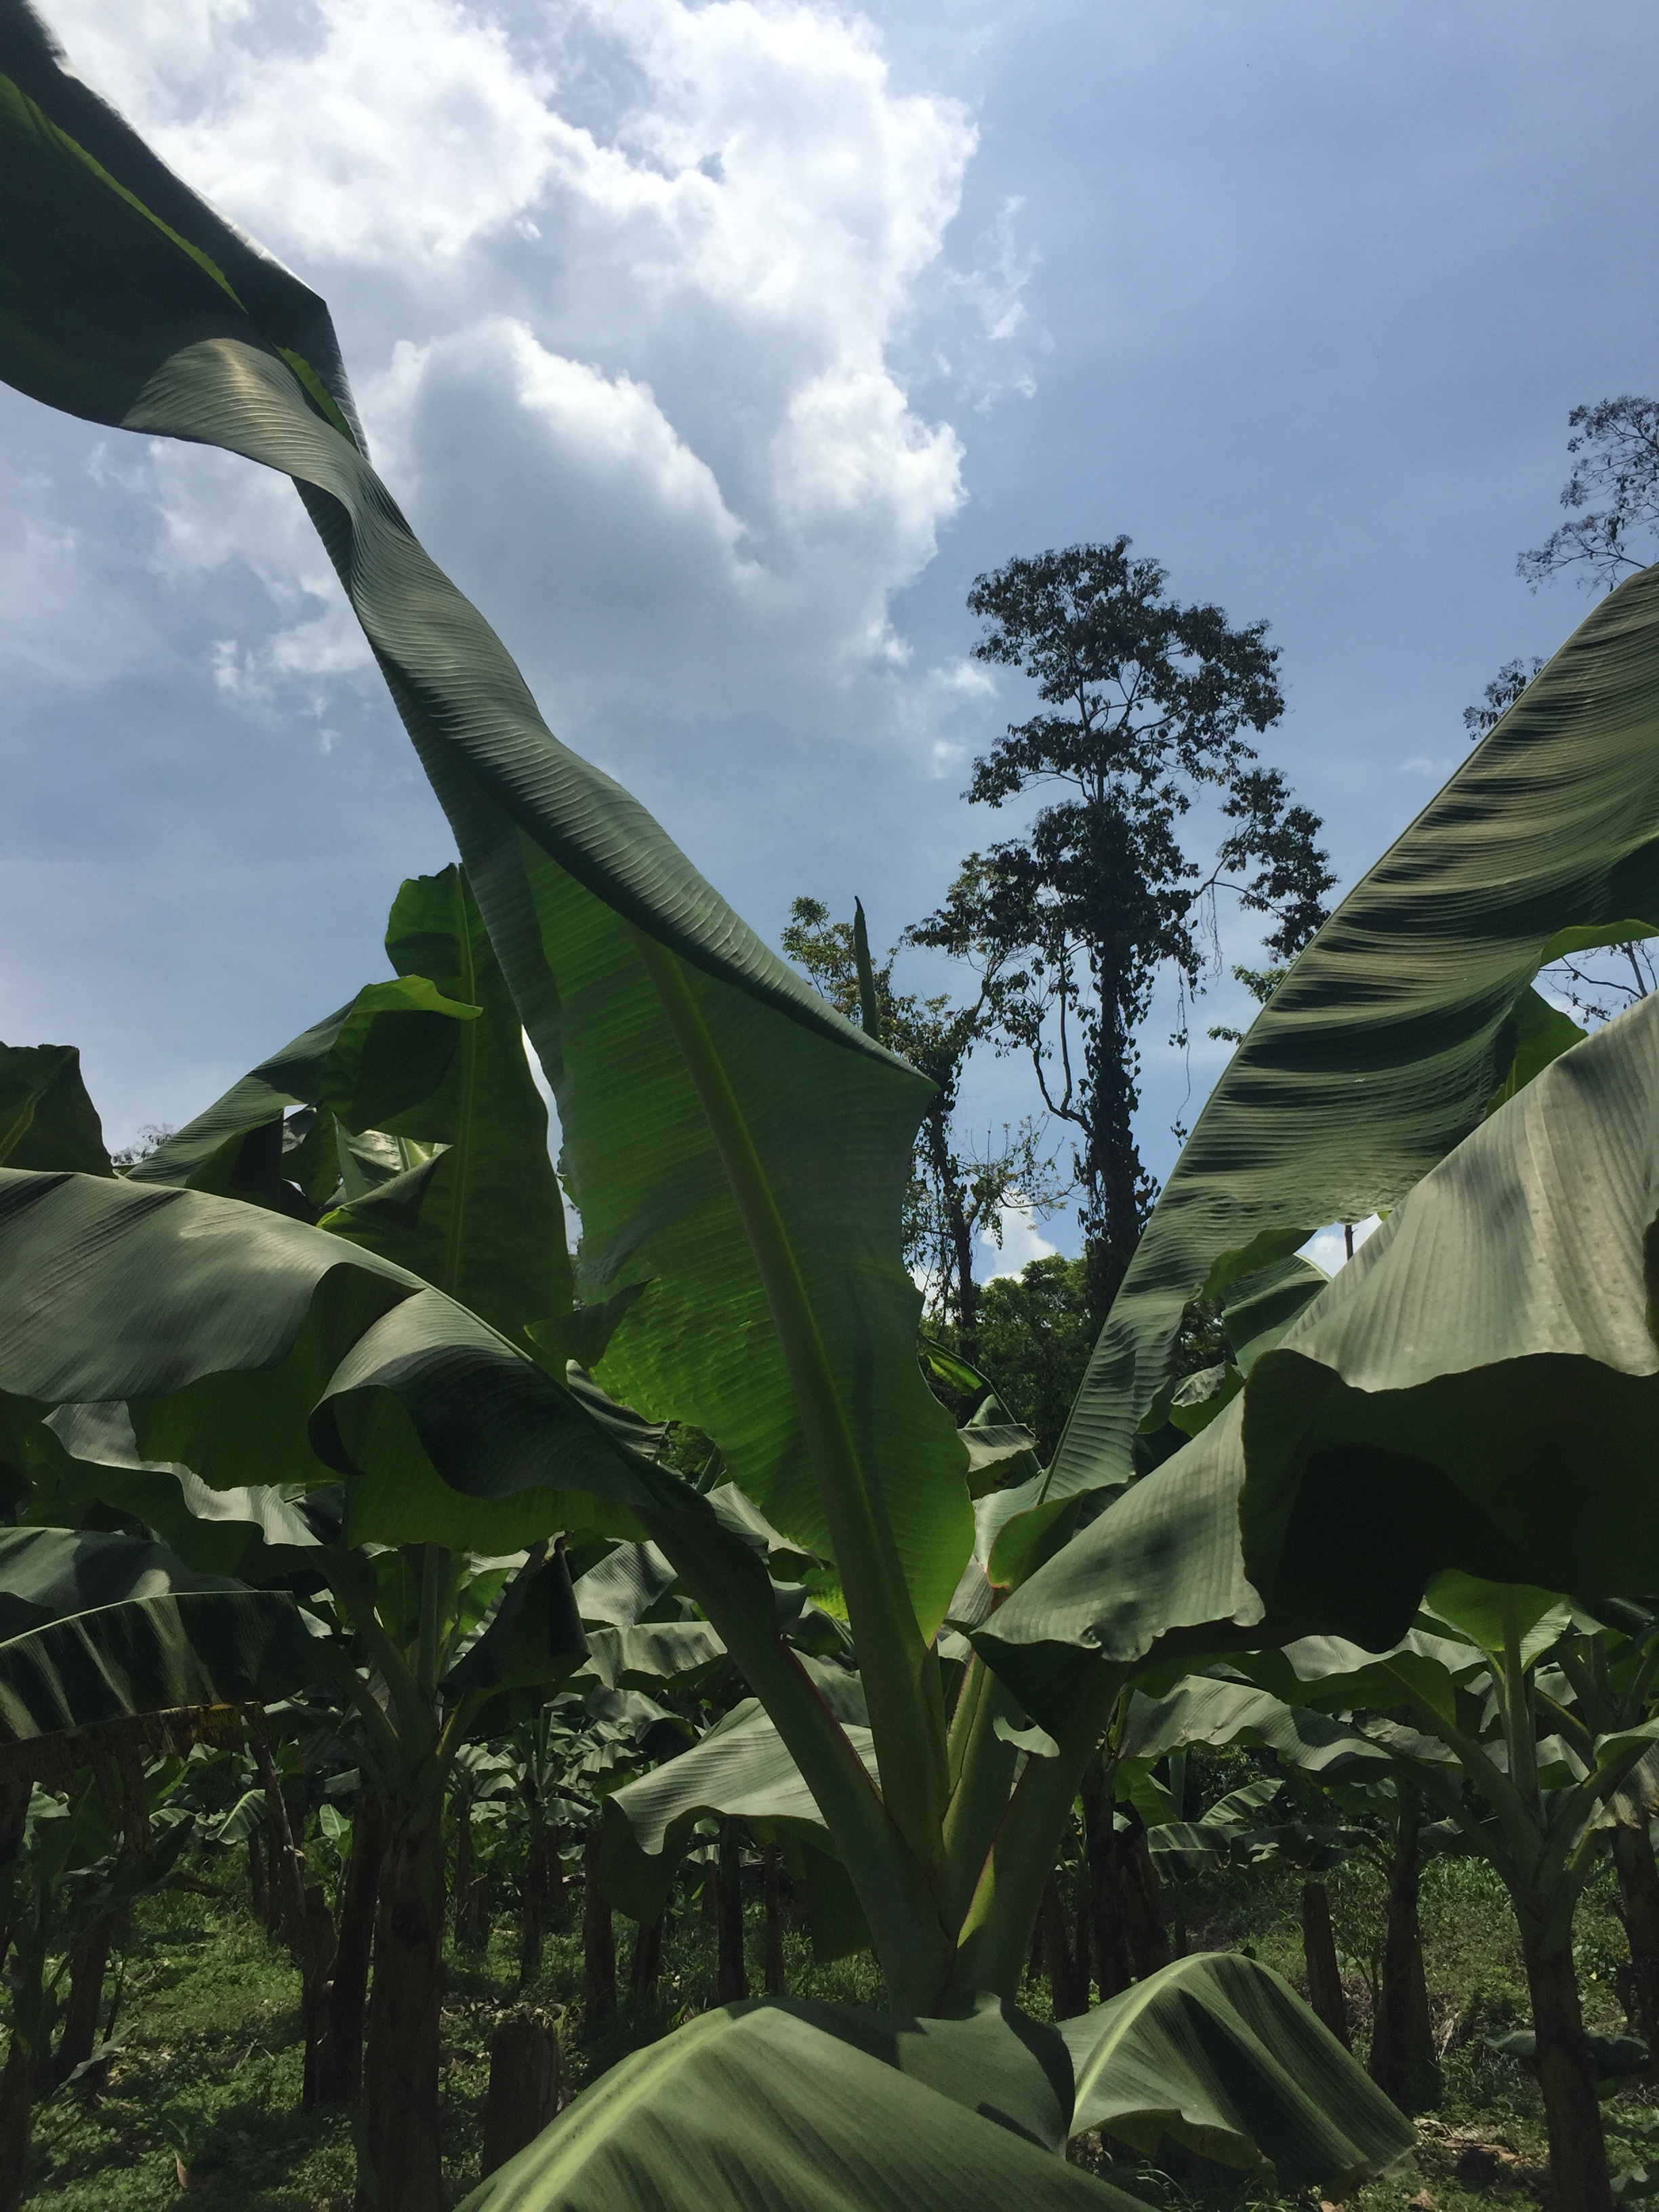candleleafs: (850, 895, 882, 1047)
